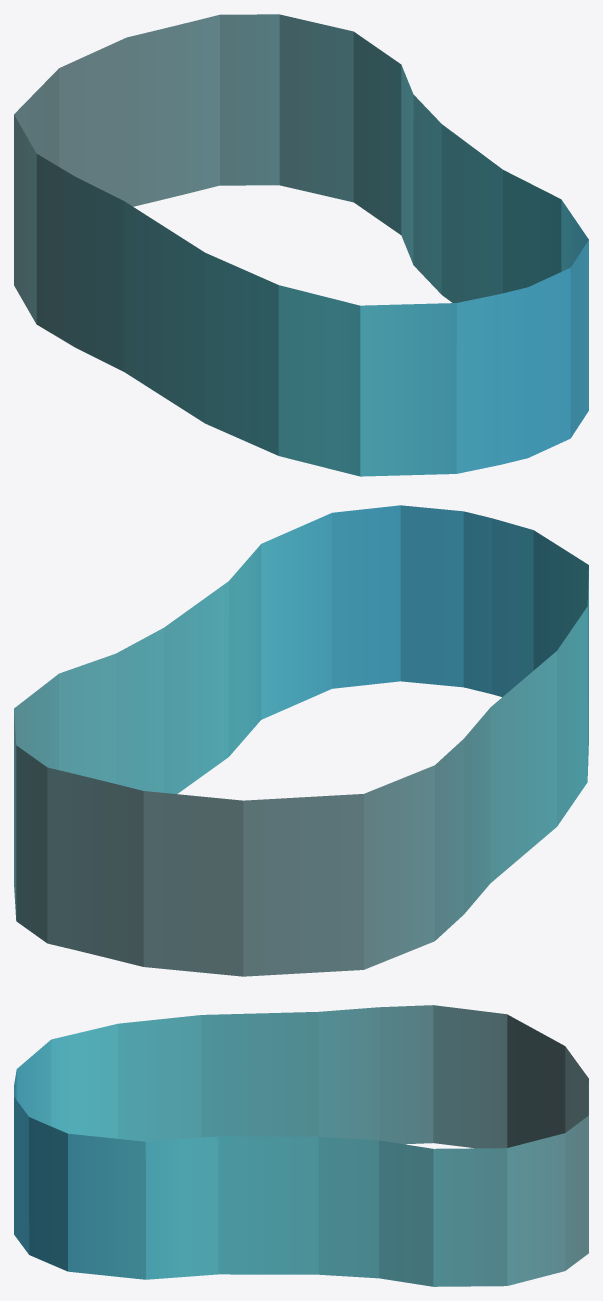
Rendered from Water Collider.FBX.
3 renders of one model, top to bottom at view 1: azimuth 30°, elevation 25°; view 2: azimuth 150°, elevation 25°; view 3: azimuth 270°, elevation 25°, orthographic. The views are drawn at different scales.
Parts seen in each view (by area): view 1: Water; view 2: Water; view 3: Water.
Boxes of the visible parts, x1=… form: Water: x1=14, y1=14, x2=588, y2=476; Water: x1=14, y1=505, x2=588, y2=976; Water: x1=14, y1=1005, x2=588, y2=1286.
Size of the model in its own units: 69.75 by 31.27 by 118.
